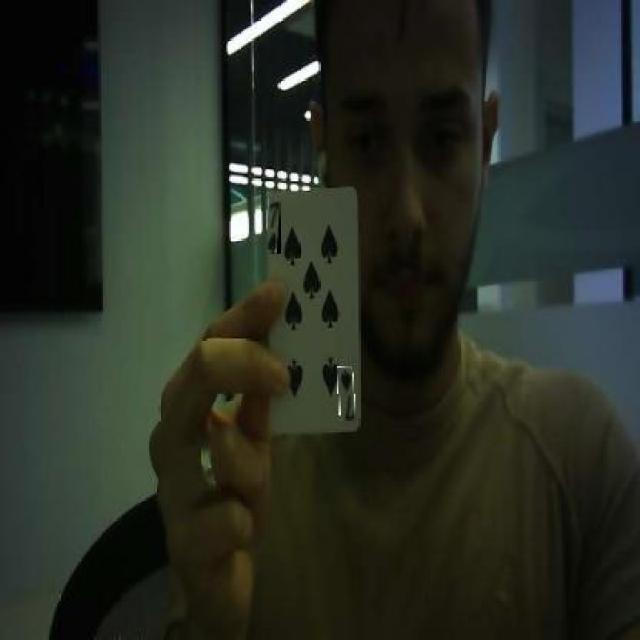7S: (338, 366, 354, 420), (268, 198, 280, 254)
